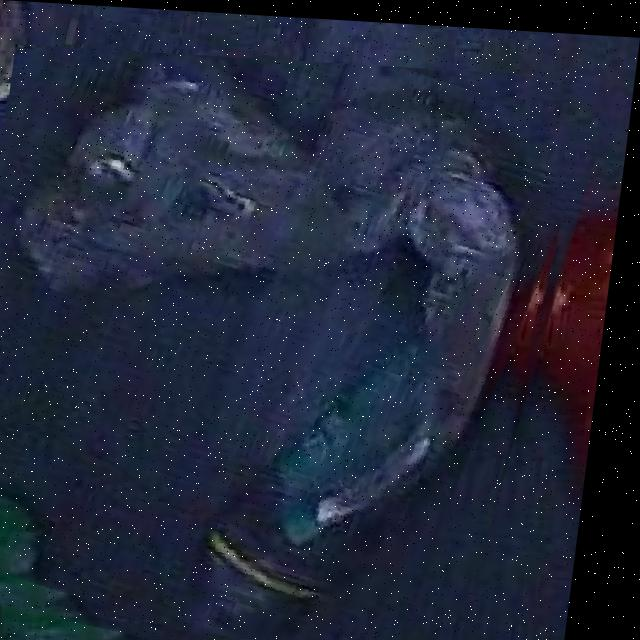plasticbottle: (0, 48, 569, 640)
